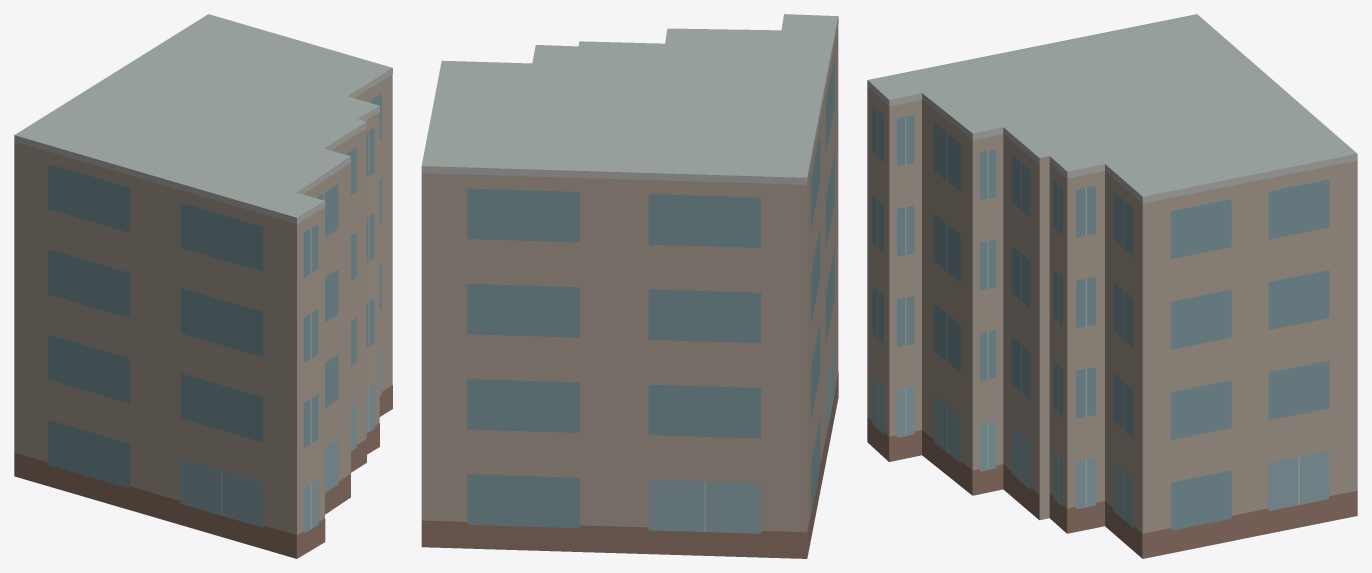
Rendered from survey-upis-32854423.glb.
3 renders of one model, left to right at view 1: azimuth 30°, elevation 25°; view 2: azimuth 150°, elevation 25°; view 3: azimuth 270°, elevation 25°, orthographic. The views are drawn at different scales.
Parts seen in each view (by area): view 1: survey-upis-32854423.tmp; view 2: survey-upis-32854423.tmp; view 3: survey-upis-32854423.tmp.
Boxes of the visible parts, x1=… form: survey-upis-32854423.tmp: x1=14, y1=14, x2=392, y2=558; survey-upis-32854423.tmp: x1=421, y1=14, x2=838, y2=558; survey-upis-32854423.tmp: x1=867, y1=14, x2=1357, y2=558.
Bounding box in the file's own units: 14.19 × 13.1 × 16.08.
